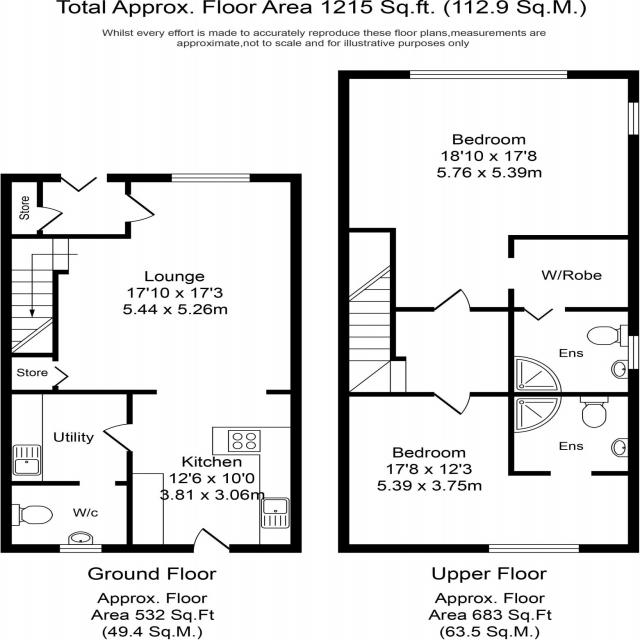DOOR: (190, 525, 231, 553), (429, 286, 472, 312), (100, 422, 133, 455), (125, 191, 158, 224), (429, 392, 472, 417)
ROOM: (1, 173, 302, 553), (338, 69, 640, 312), (338, 391, 640, 553)
WINDOW: (408, 69, 569, 82), (485, 542, 583, 556), (170, 172, 252, 184), (626, 100, 640, 137), (59, 543, 103, 554), (627, 335, 640, 370)
